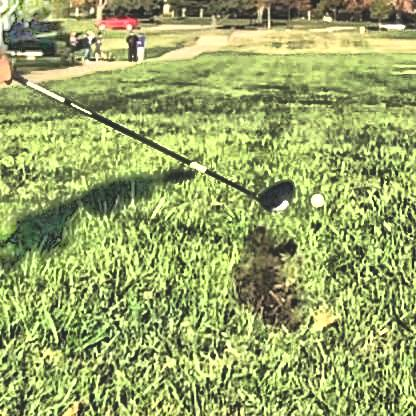golfball: (306, 189, 321, 204)
